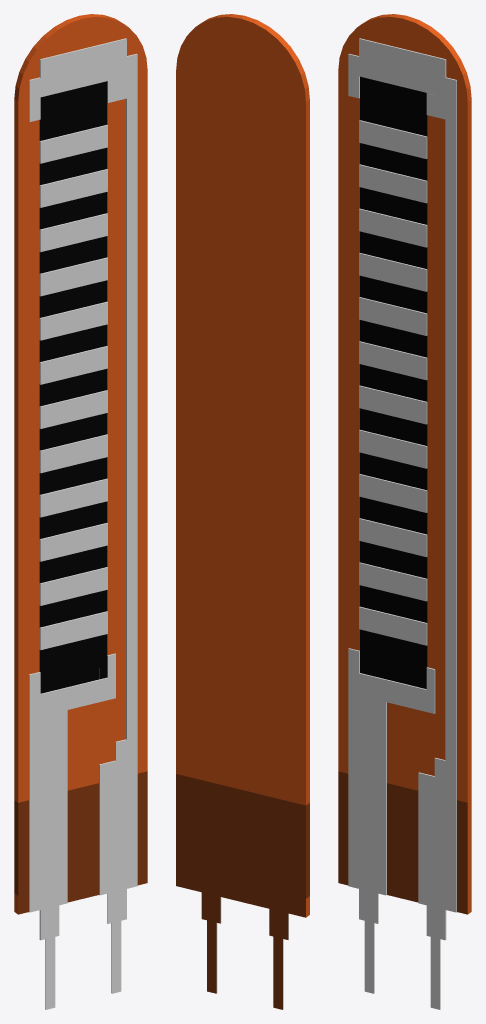
File: FlexSensor.glb
The picture shows the model from 3 angles, left to right: view 1: azimuth 30°, elevation 25°; view 2: azimuth 150°, elevation 25°; view 3: azimuth 330°, elevation 25°; orthographic projection.
Parts seen in each view (by area): view 1: Flex Sensor, Flex Sensor.001, Flex Sensor.002; view 2: Flex Sensor, Flex Sensor.002, Flex Sensor.001; view 3: Flex Sensor, Flex Sensor.002, Flex Sensor.001.
Part boxes in pixels (x1,y1,x2,y2): Flex Sensor: (14,14,147,914); Flex Sensor.001: (39,905,59,1009); Flex Sensor.002: (107,889,126,993); Flex Sensor: (176,14,309,917); Flex Sensor.002: (201,892,221,993); Flex Sensor.001: (269,909,288,1009); Flex Sensor: (338,14,471,914); Flex Sensor.002: (426,905,446,1009); Flex Sensor.001: (359,889,378,993).
Size of the model in its own units: 0.1523 by 1.1 by 0.00959.
